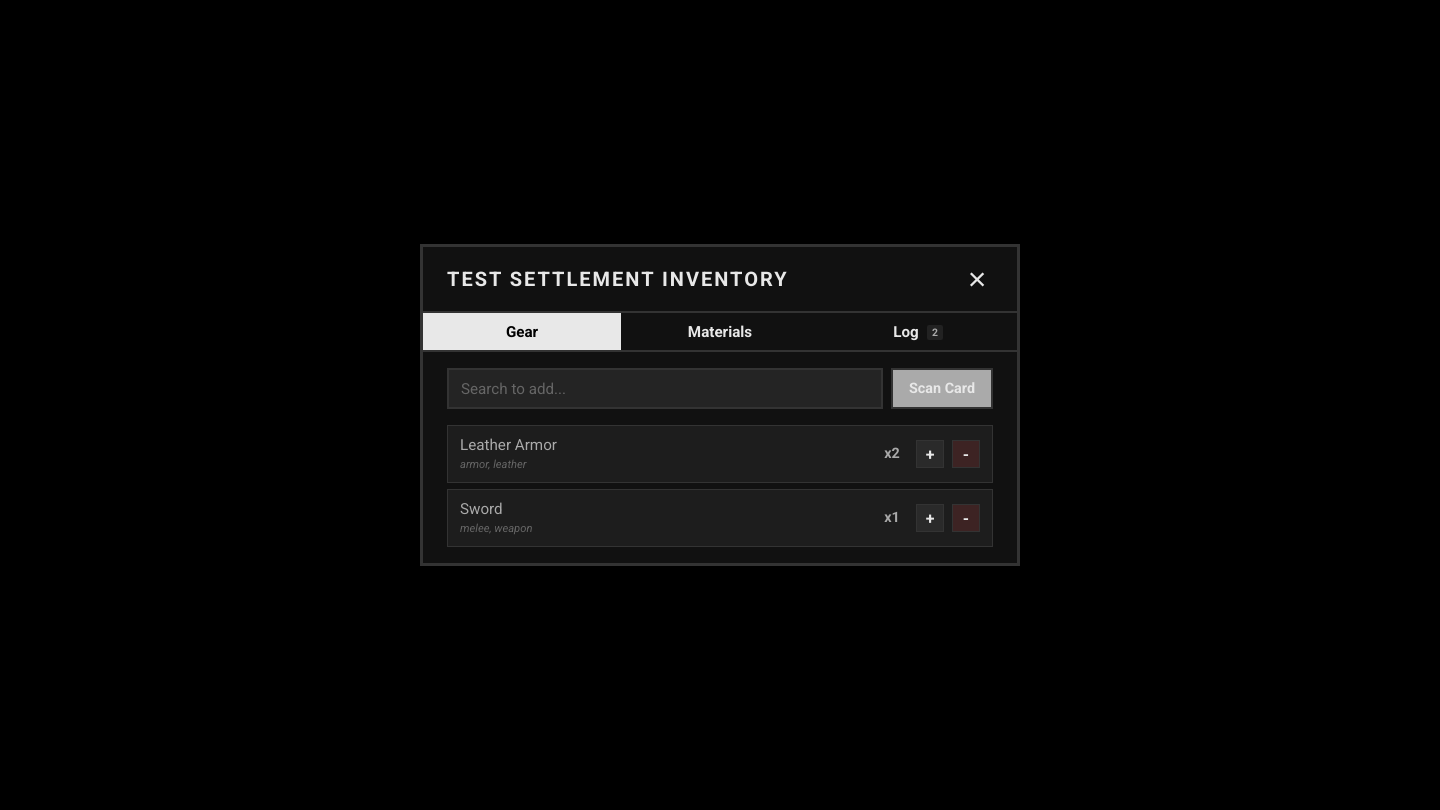
it: InventoryModal › Tab Switching › switches to materials tab when clicked
This screenshot has width=1440, height=810.
Click the button "Materials" at (720, 332), box [621,313,819,350]
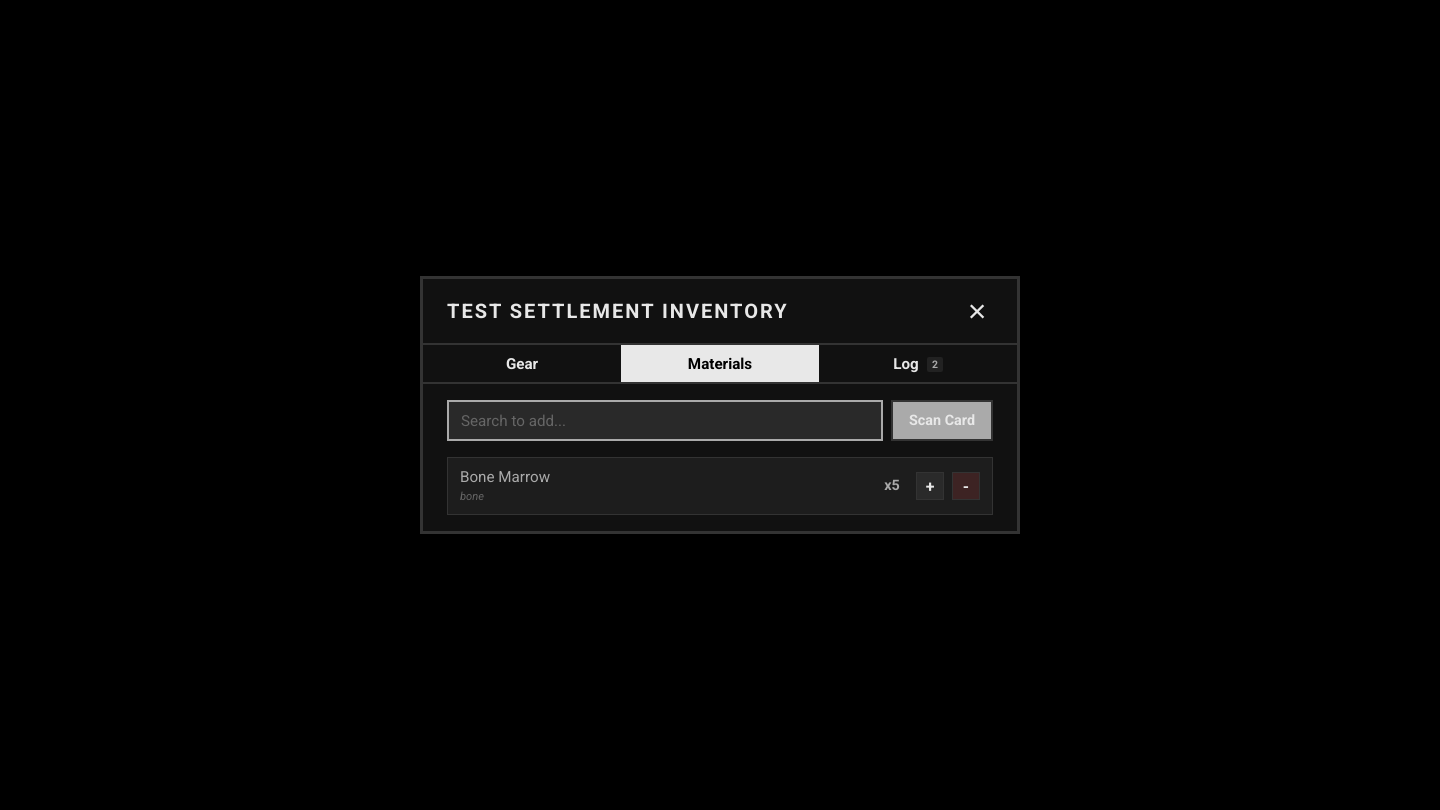
Now the link "Bone Marrow" is shown, box [460,468,550,486]
